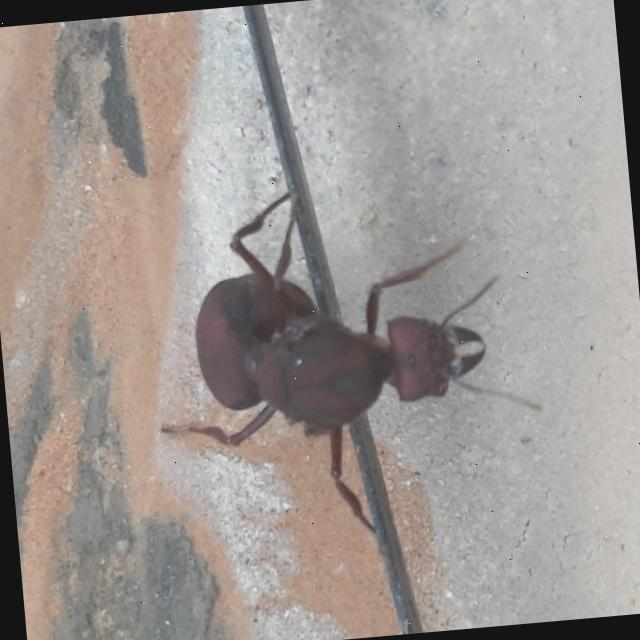Alive-Female-Dealate: (140, 168, 552, 552)
